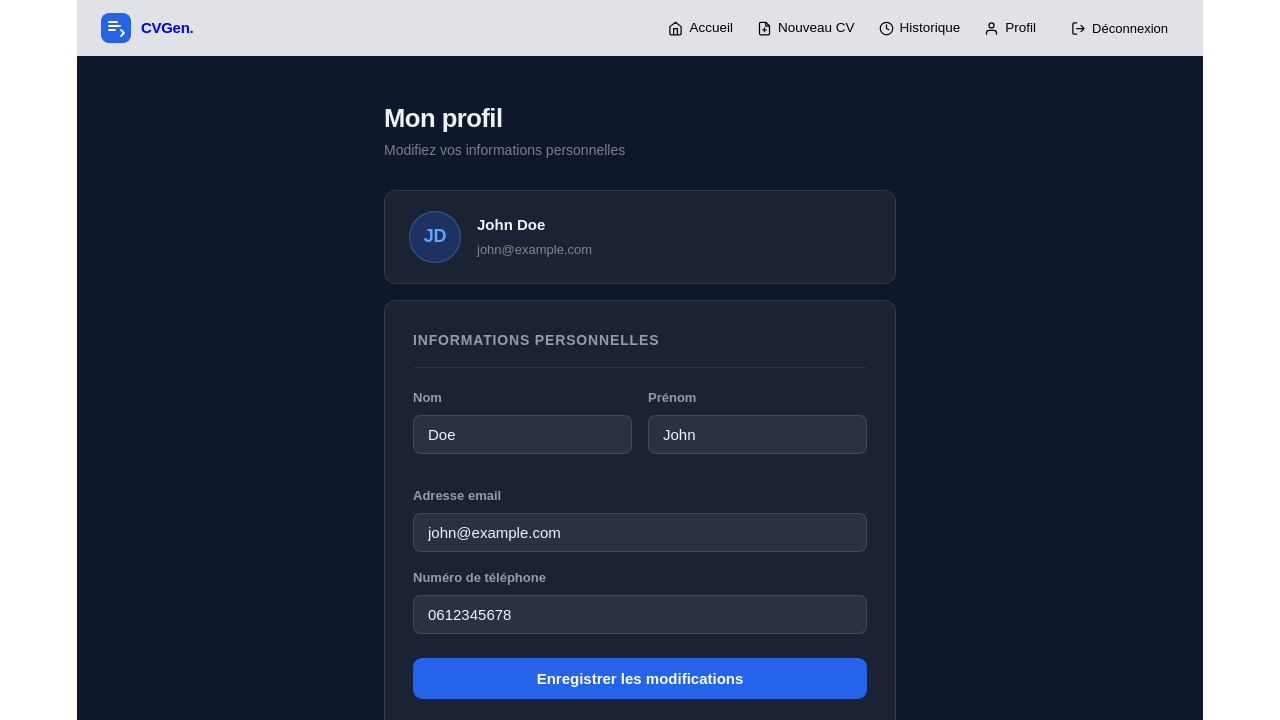
Test: Page Profil › soumet les modifications correctement
Note: On modifie le nom
Replace the text in the 1st field showing "Doe" with "Smith" at [522, 434], box [413, 415, 632, 454]
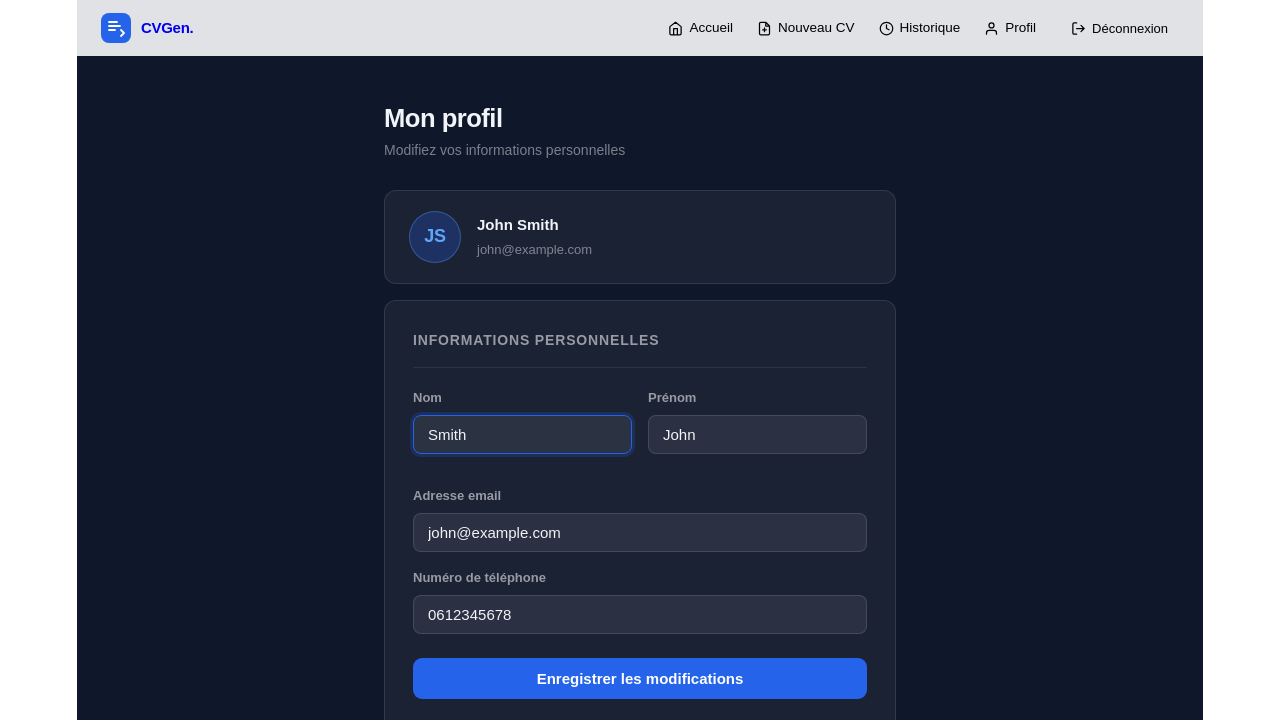
Click the button "Enregistrer les modifications" at [640, 678], box [413, 658, 867, 699]
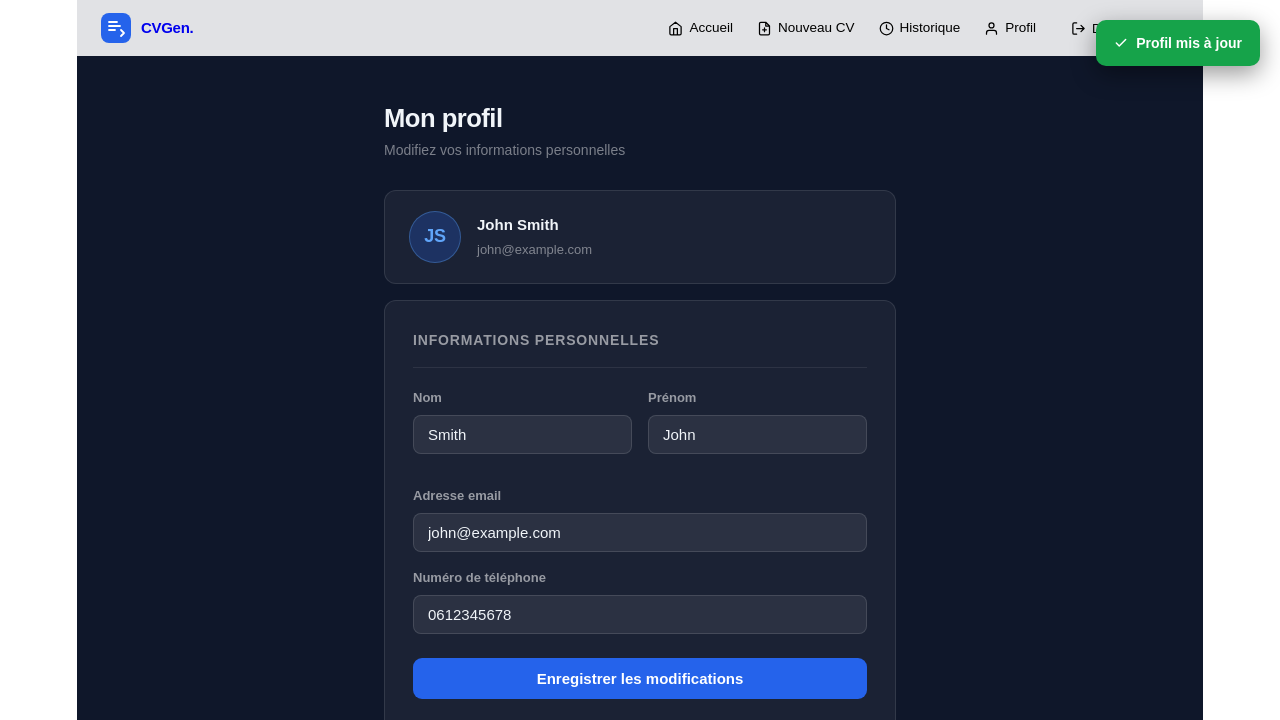
Check: the text "Profil mis à jour" is shown, box [1096, 20, 1260, 66]
